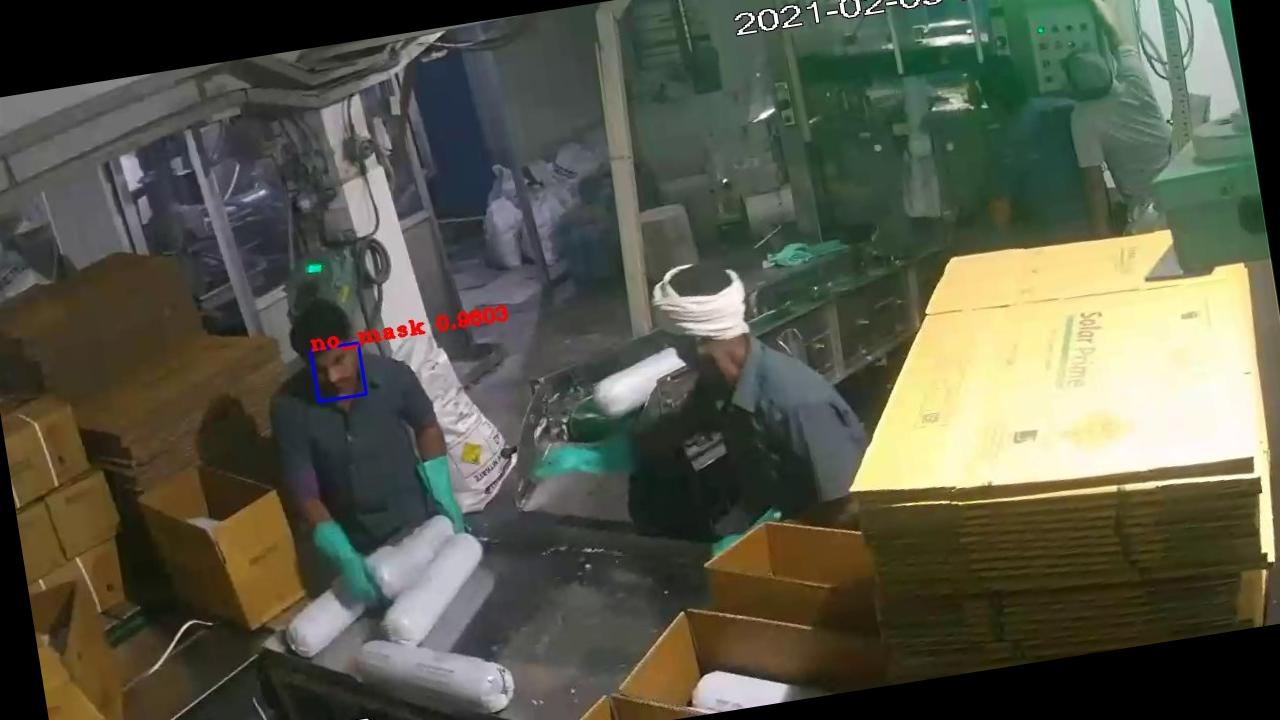Gloves: (528, 416, 672, 510), (298, 503, 398, 621), (402, 444, 497, 559)
No-gloves: (1071, 152, 1132, 252), (1059, 0, 1143, 66)
